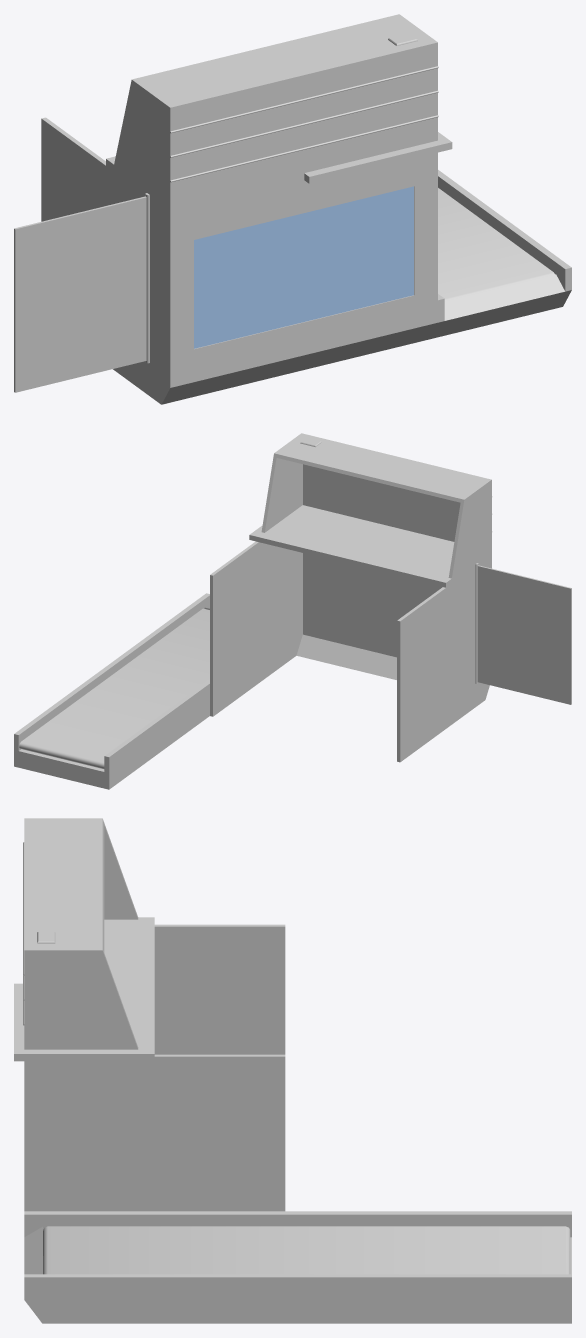
Rendered from Registration_desk.fbx.
The picture shows the model from 3 angles, top to bottom: view 1: azimuth 30°, elevation 25°; view 2: azimuth 150°, elevation 25°; view 3: azimuth 270°, elevation 25°; orthographic projection. The views are drawn at different scales.
Visible parts, largest first — view 1: Registration_desk, Registration_desk_Door; view 2: Registration_desk, Registration_desk_Door; view 3: Registration_desk.
Boxes of the visible parts, <box> form: Registration_desk: <box>41,14,571,404</box>; Registration_desk_Door: <box>14,193,149,392</box>; Registration_desk: <box>14,433,492,789</box>; Registration_desk_Door: <box>475,563,571,704</box>; Registration_desk: <box>14,818,571,1323</box>.
Size of the model in its own units: 240 by 131 by 214.
